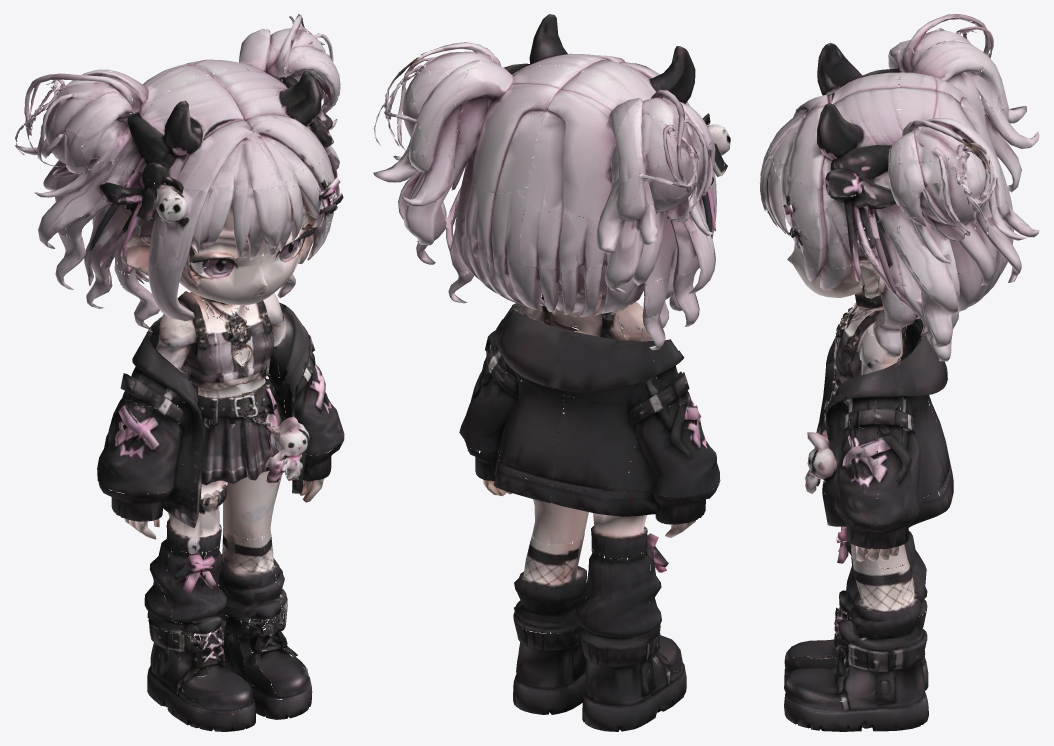
File: studio-visitor-rose-standing-v5.glb
3 views of the same model, side by side, from view 1: azimuth 30°, elevation 25°; view 2: azimuth 150°, elevation 25°; view 3: azimuth 270°, elevation 25° (orthographic). The views are drawn at different scales.
Visible parts, largest first — view 1: rose_continuous_body; view 2: rose_continuous_body; view 3: rose_continuous_body.
Boxes of the visible parts, x1=… form: rose_continuous_body: x1=14, y1=14, x2=344, y2=731; rose_continuous_body: x1=373, y1=14, x2=730, y2=731; rose_continuous_body: x1=759, y1=14, x2=1039, y2=731.
Bounding box in the file's own units: 0.58 × 1.14 × 0.4583.
Materials: 5 (5 with a texture image).
